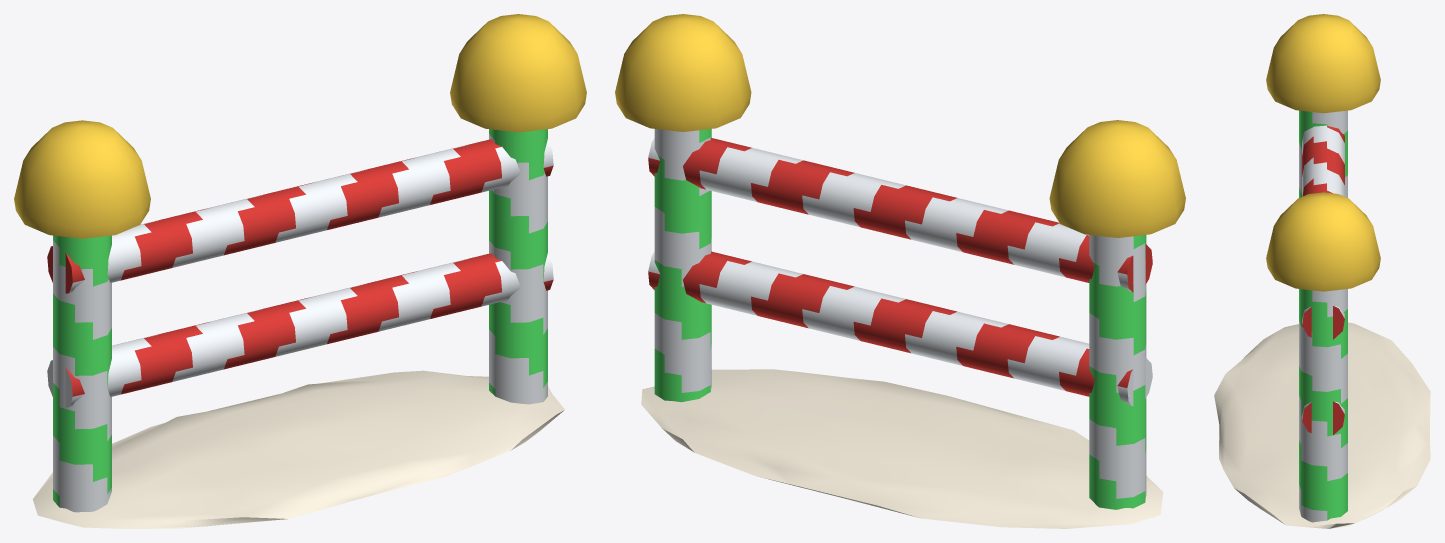
Rendered from StickFence.fbx.
The picture shows the model from 3 angles, left to right: view 1: azimuth 30°, elevation 25°; view 2: azimuth 150°, elevation 25°; view 3: azimuth 270°, elevation 25°; orthographic projection. The views are drawn at different scales.
Parts seen in each view (by area): view 1: StickFence; view 2: StickFence; view 3: StickFence.
Boxes of the visible parts, x1,y1,x2,y2 form: StickFence: [14, 14, 586, 528]; StickFence: [615, 14, 1185, 528]; StickFence: [1214, 14, 1430, 528].
Bounding box in the file's own units: 1.73 × 1.13 × 0.6984.
Materials: 1 (1 with a texture image).
